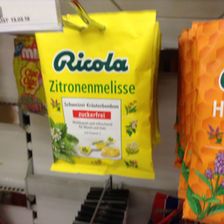candy: (35, 12, 154, 179), (175, 21, 222, 218)
